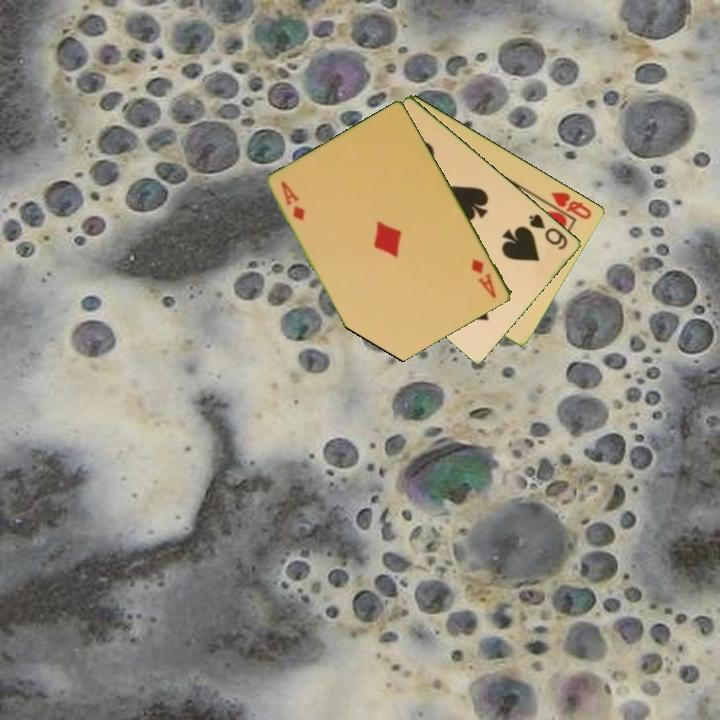6s: (525, 210, 571, 253)
Ad: (468, 255, 500, 301), (278, 177, 308, 224)
Qh: (548, 188, 595, 222)
